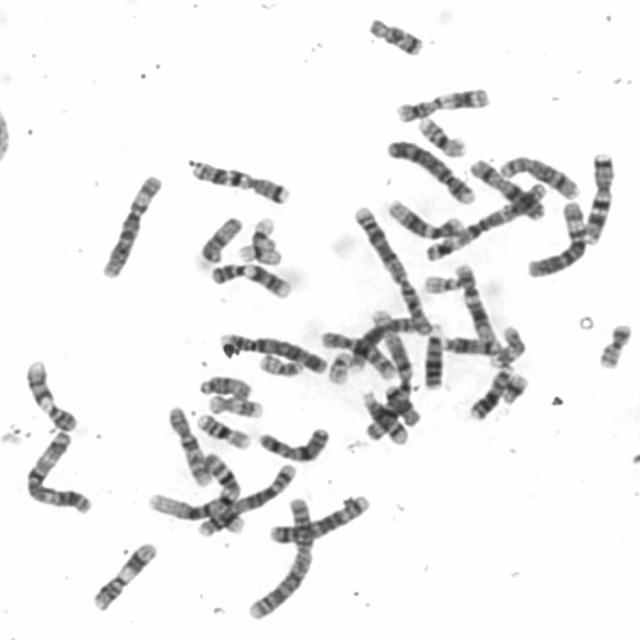A1: (358, 306, 416, 444), (143, 448, 244, 524)
A2: (348, 200, 434, 337), (242, 490, 318, 622)
A3: (419, 176, 548, 263), (18, 424, 95, 516)
B4: (380, 132, 478, 206), (214, 326, 331, 376)
B5: (192, 458, 297, 538), (263, 488, 373, 546)
C10: (161, 399, 213, 488), (316, 325, 398, 380)
C11: (86, 536, 159, 613), (389, 81, 492, 124)
C12: (450, 257, 498, 345), (382, 193, 466, 240)
C6: (95, 167, 165, 280), (521, 194, 590, 279)
C7: (183, 152, 292, 206), (579, 146, 617, 245)
C8: (493, 149, 583, 200), (345, 311, 418, 371)
C9: (18, 353, 80, 433), (204, 255, 295, 300)
D13: (464, 361, 516, 423), (418, 318, 447, 392)
D14: (358, 384, 410, 446), (440, 333, 500, 359)
D15: (193, 210, 245, 264), (193, 368, 254, 401)
E16: (190, 406, 252, 451), (412, 110, 468, 158)
E17: (484, 320, 526, 369), (203, 388, 265, 419)
E18: (362, 11, 426, 57), (380, 378, 424, 427)
F19: (244, 210, 284, 266), (232, 236, 284, 266)
F20: (592, 316, 634, 371), (253, 348, 306, 378)
G21: (208, 500, 250, 534), (497, 367, 531, 406)
G22: (322, 346, 353, 386), (417, 268, 464, 294)
X: (464, 151, 547, 222), (251, 421, 332, 464)
